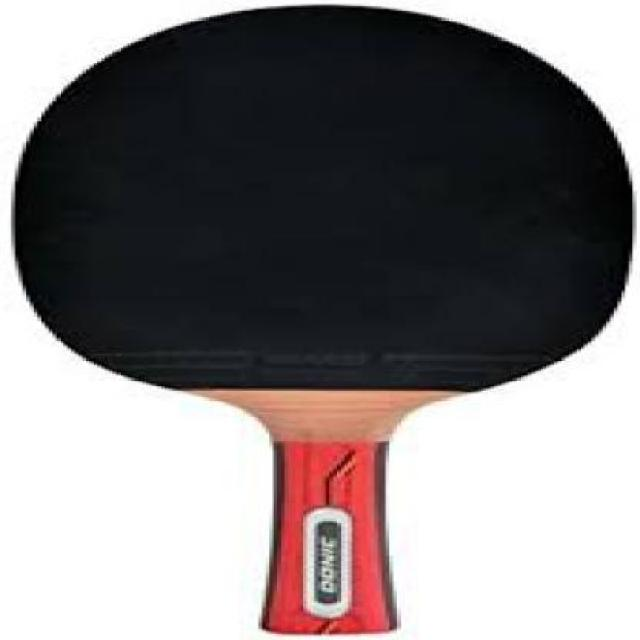table_tennis_racket: (3, 4, 640, 436)
